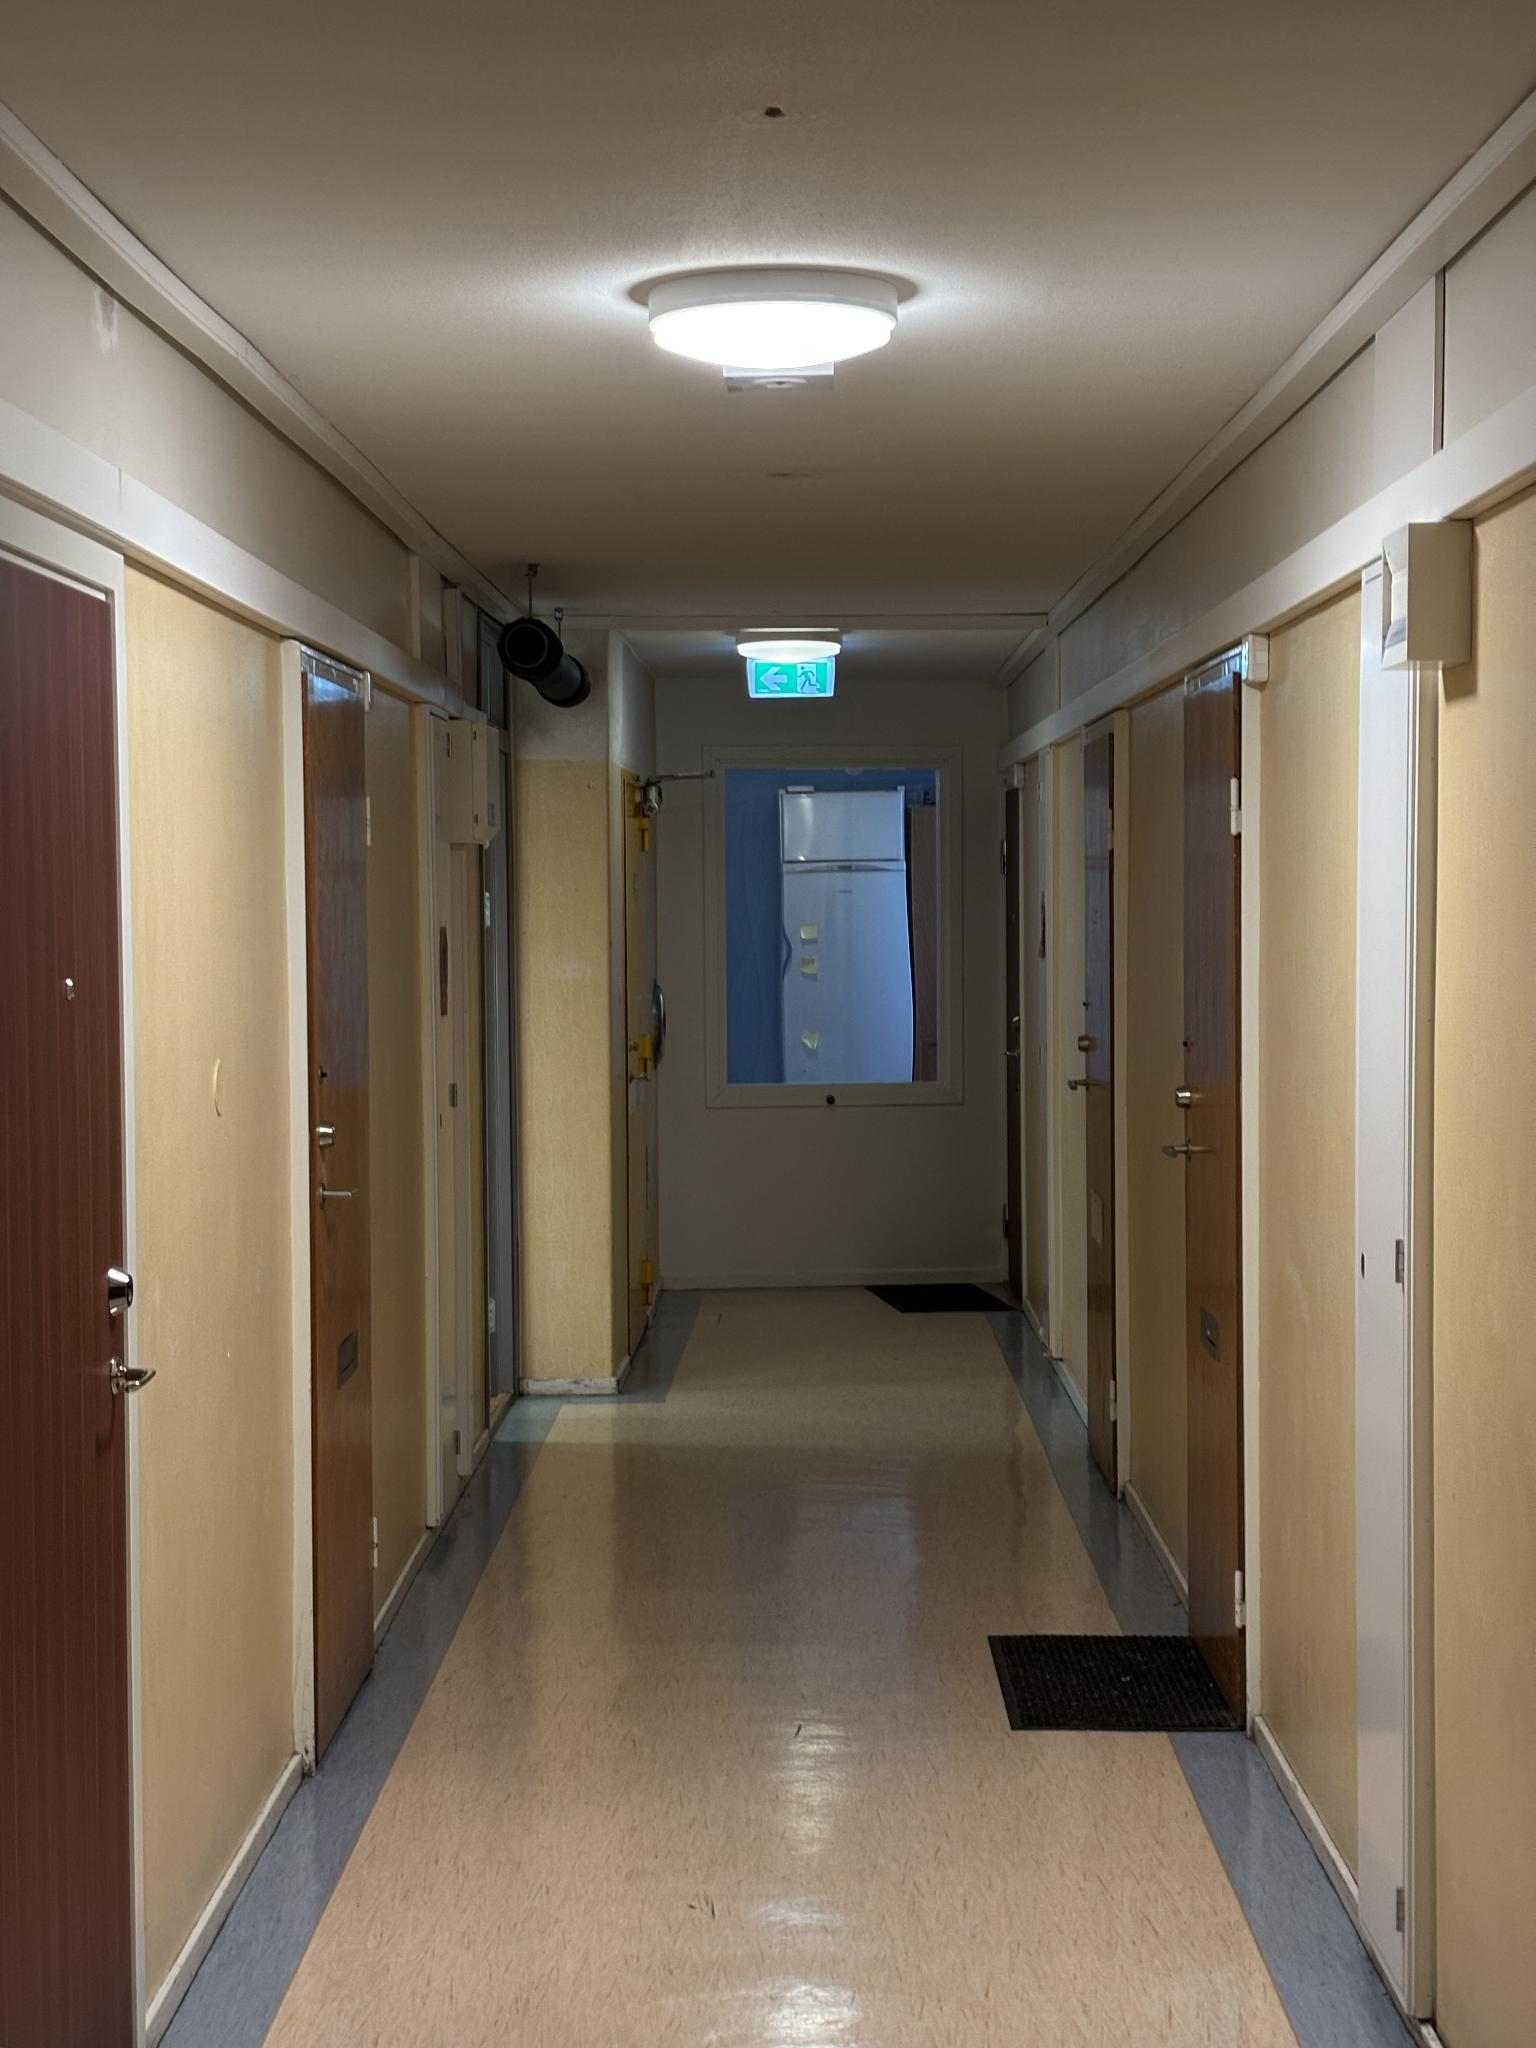exit_sign: (747, 647, 836, 698)
